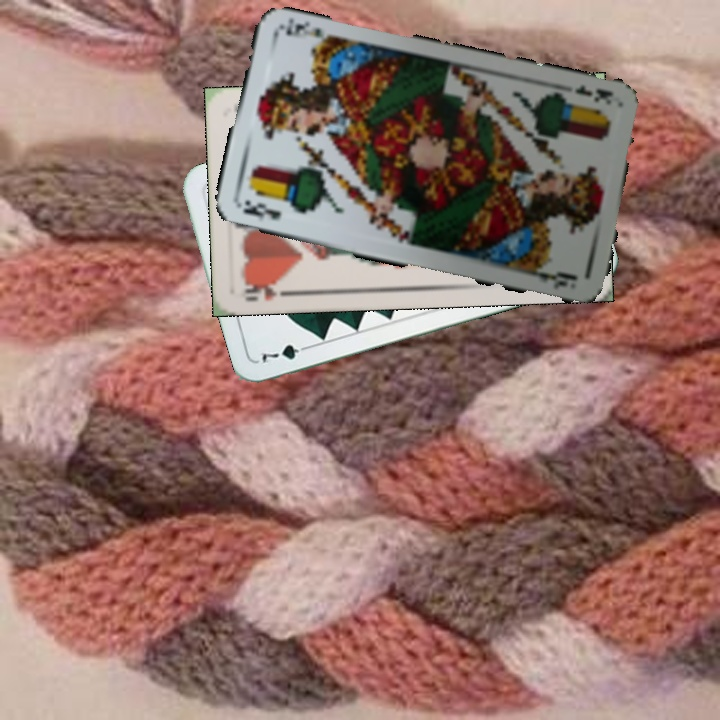EK: (571, 80, 616, 107), (238, 196, 283, 222)
G7: (258, 340, 315, 366)
HO: (240, 278, 296, 304)
